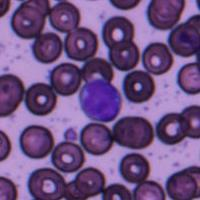L: (78, 76, 122, 123)
